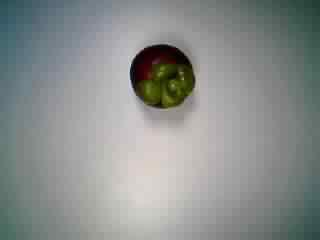mangosteen: (123, 42, 197, 112)
